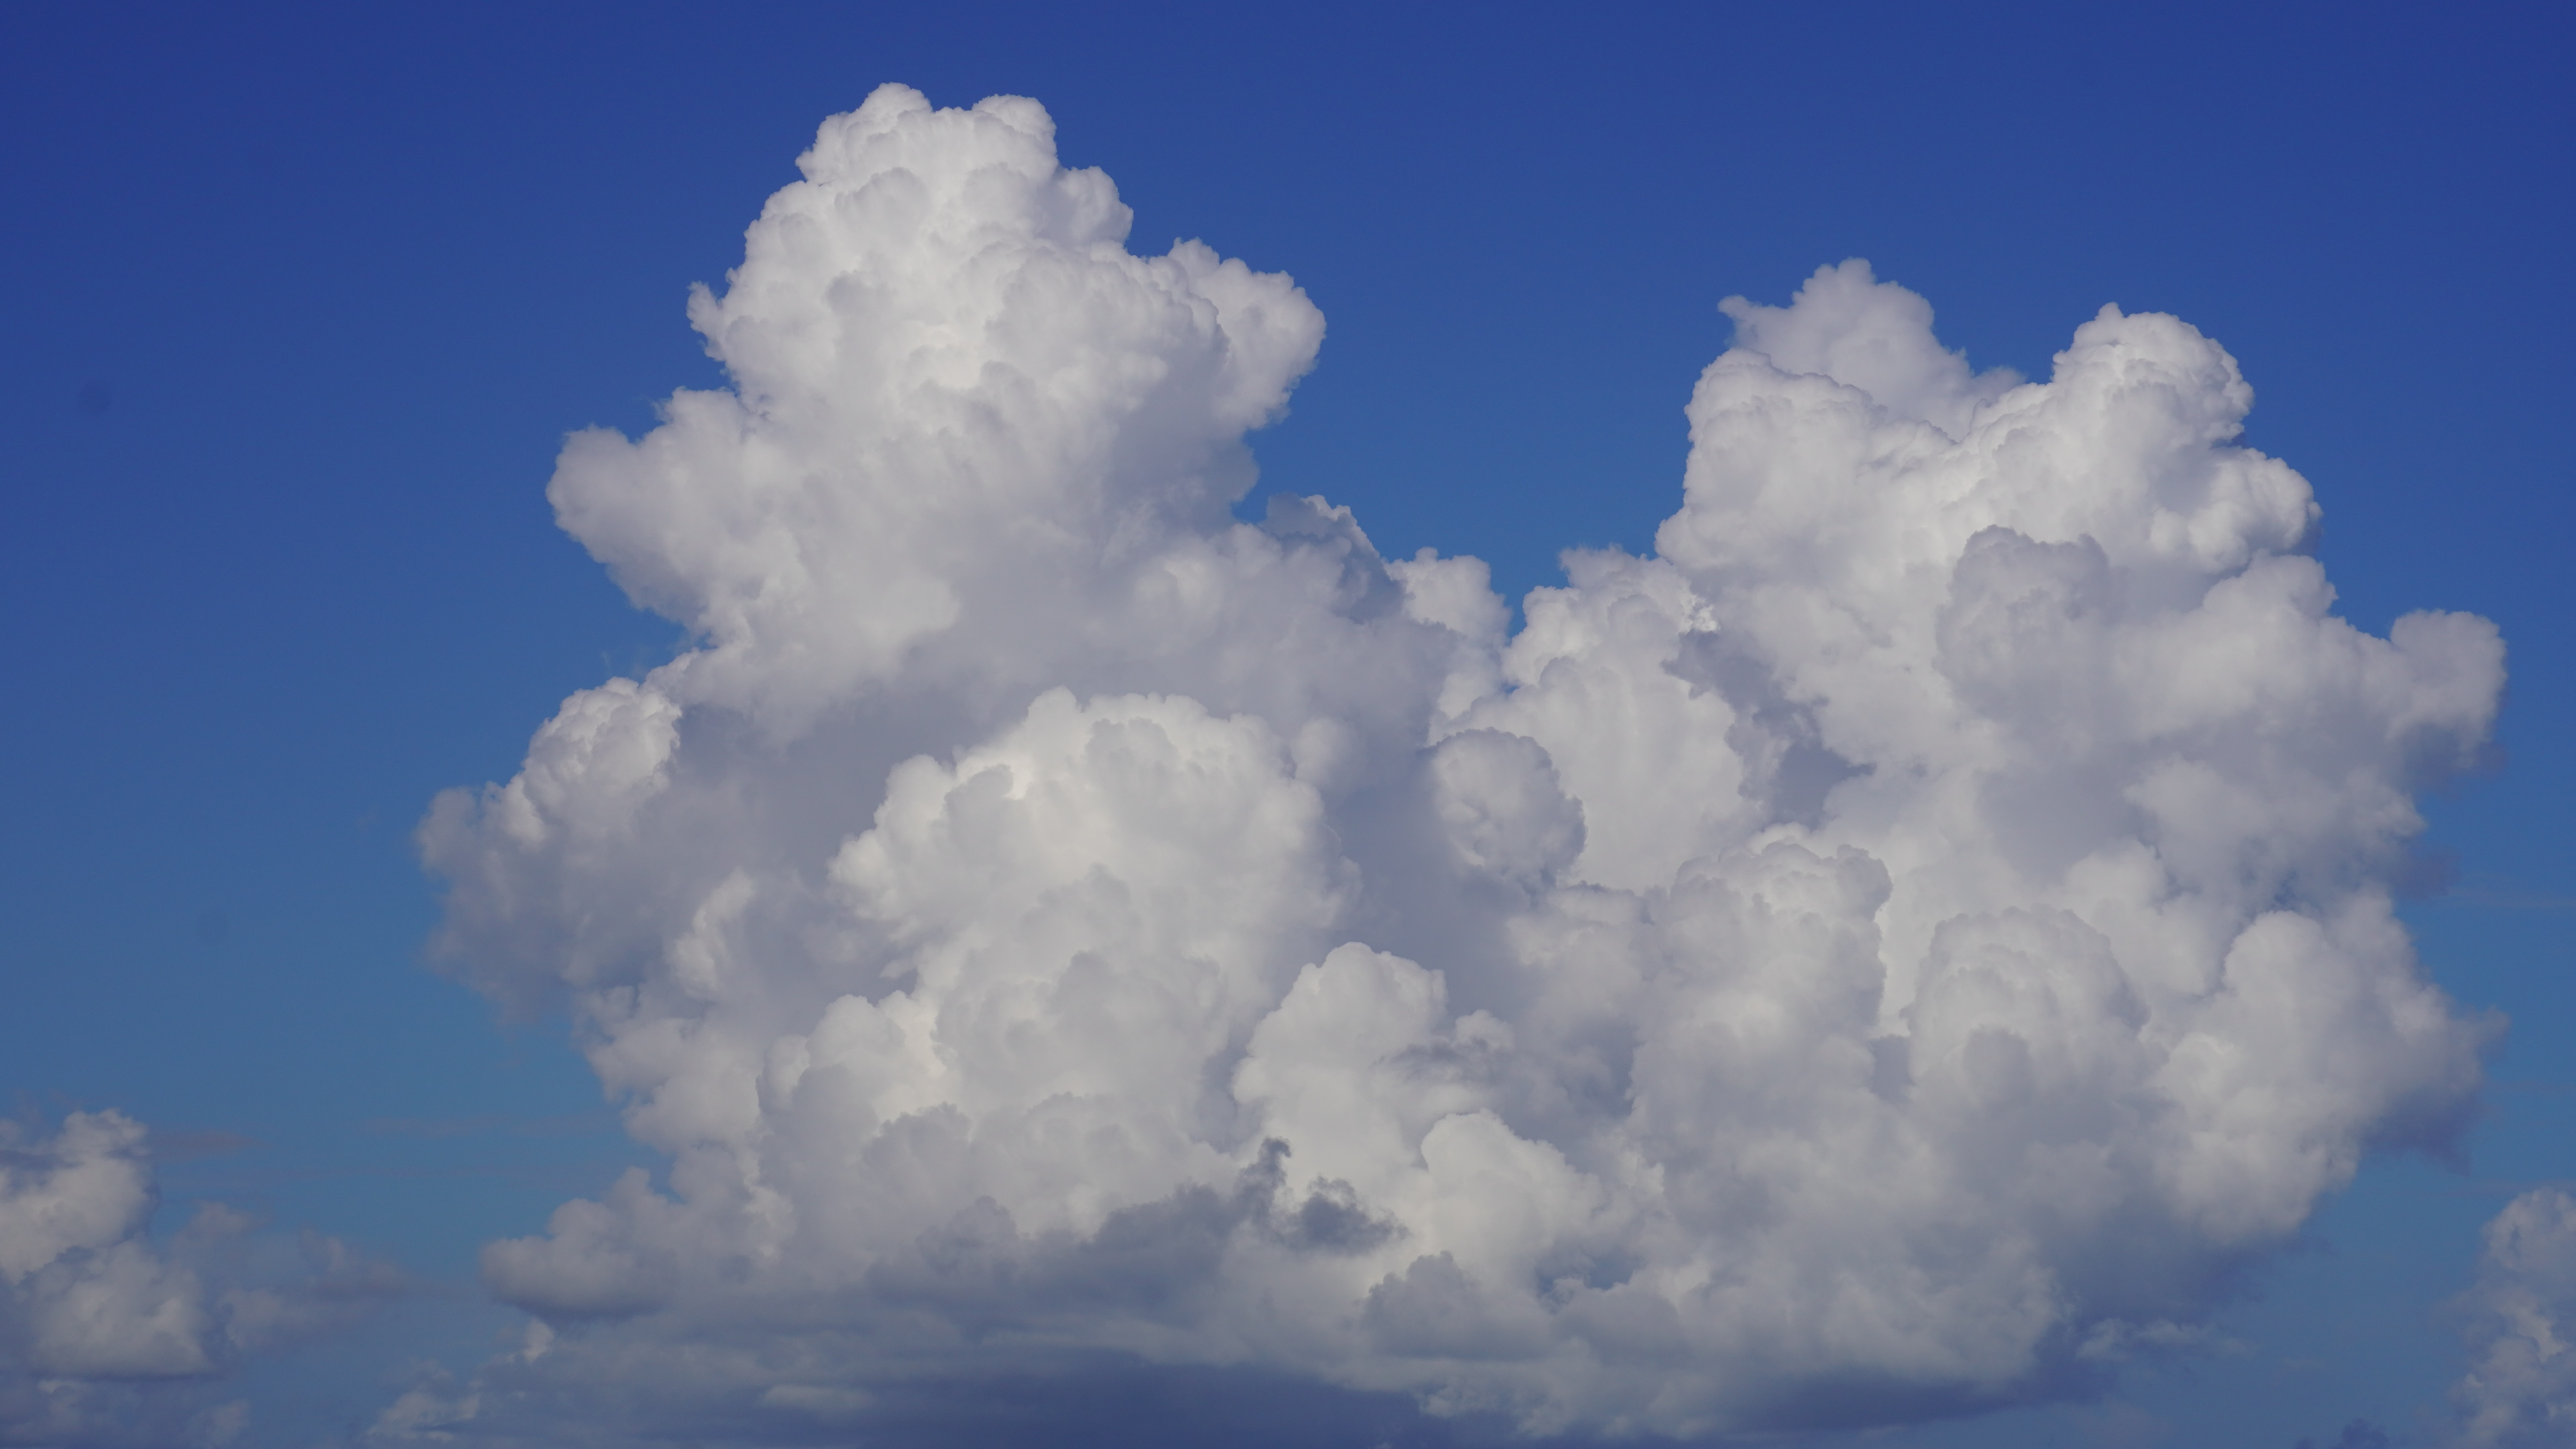Cumulus: (407, 35, 2511, 1407)
